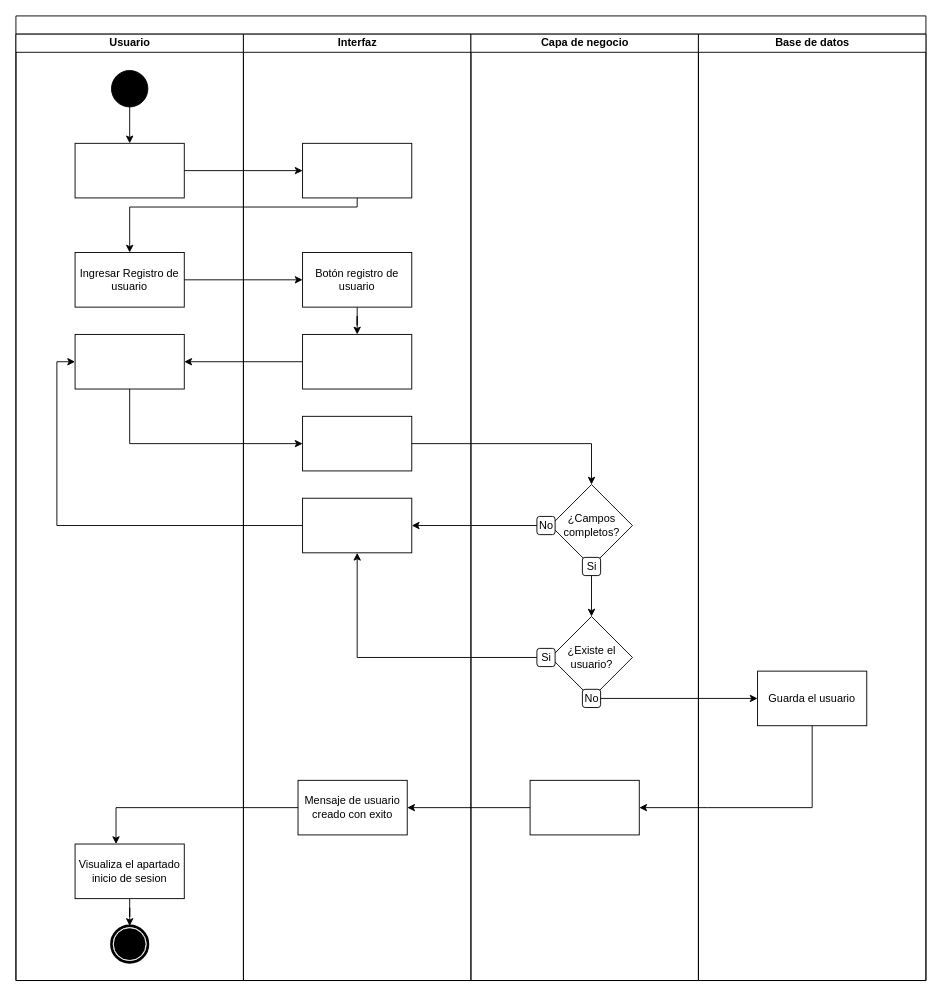
The diagram is 942 pixels wide and 996 high, and some of its shapes have lost their labels. The centre of each missing label's shape, as x and y in pixels:
Botón crear usuario: point (357, 443)
Despliega apartado Inicio sesión: point (357, 170)
Despliegue apartado registro de usuario: point (357, 361)
Ingresar usuario y contraseña: point (129, 361)
Iniciar aplicación: point (129, 170)
Mensaje de error de usuario y/o contraseña: point (357, 525)
Recopila los datos: point (584, 807)
